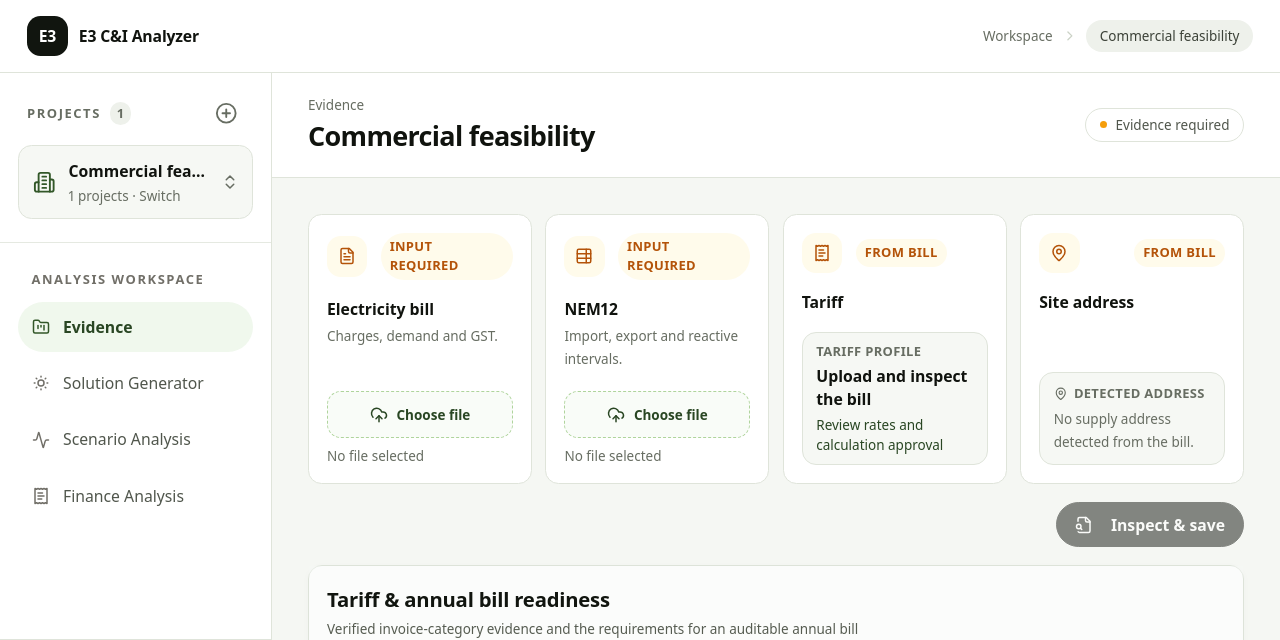
Test: C&I project workspace › creates a project from the left rail and opens its Evidence module
This screenshot has width=1280, height=640.
Check: the element named "Evidence sources" is shown, box [308,214,1244,484]
Click the button named "New project" at (226, 114), box [208,96,244,132]
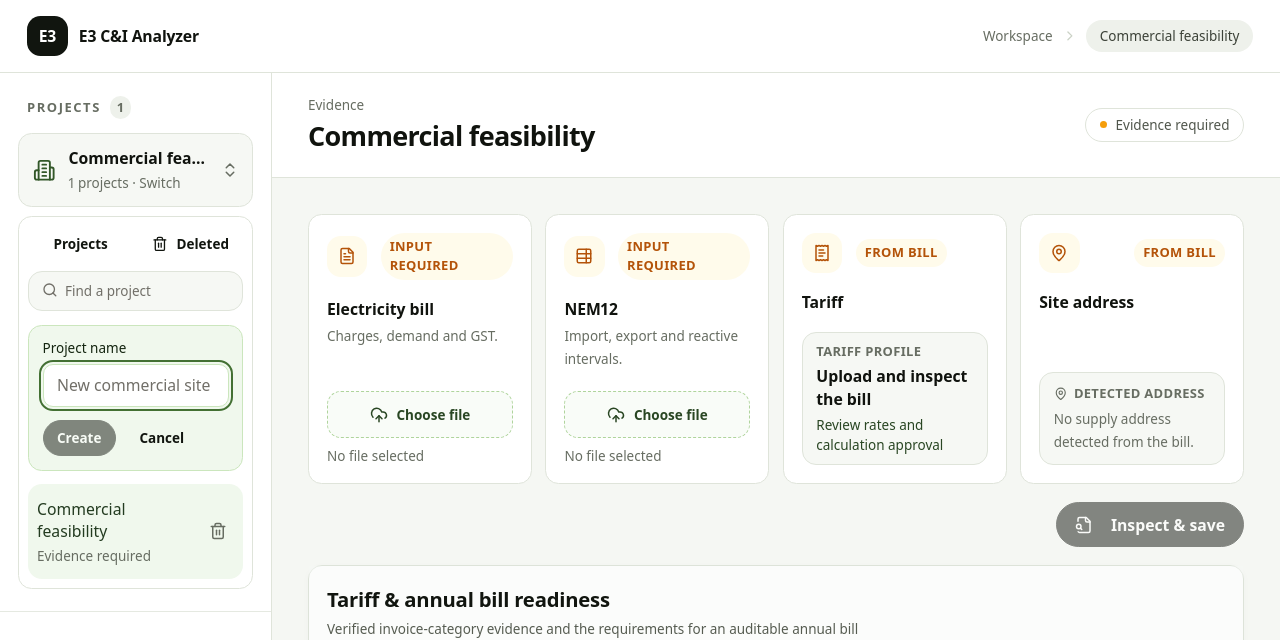
Type "Warehouse B" into the field labelled "Project name" at (136, 385), box [42,364,228,407]
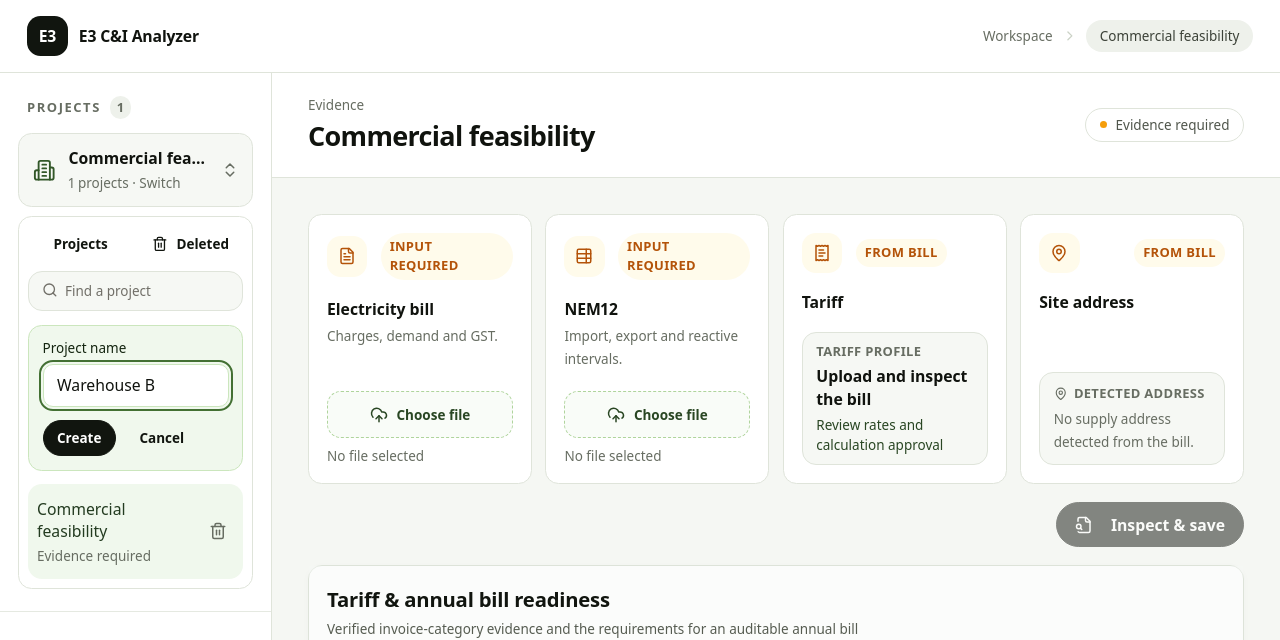
Click the button "Create" at (79, 438), box [42,420,116,456]
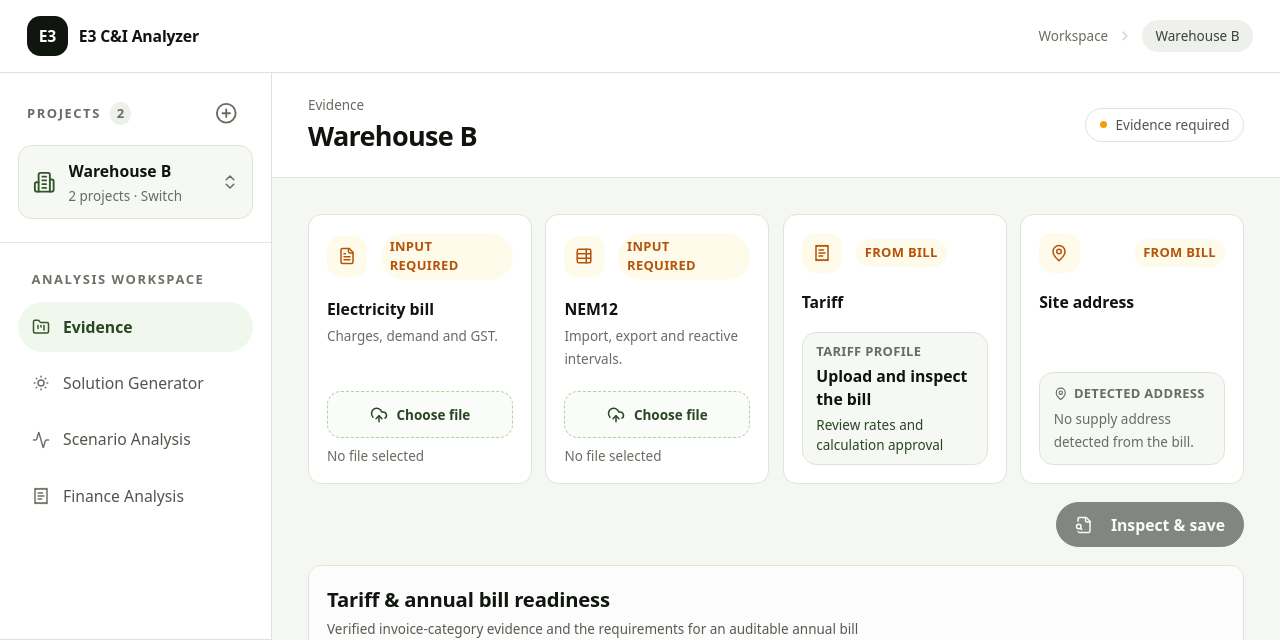
Check: the element named "Evidence sources" is shown, box [308,214,1244,484]
Check: the heading "Warehouse B" is shown, box [308,118,477,154]
